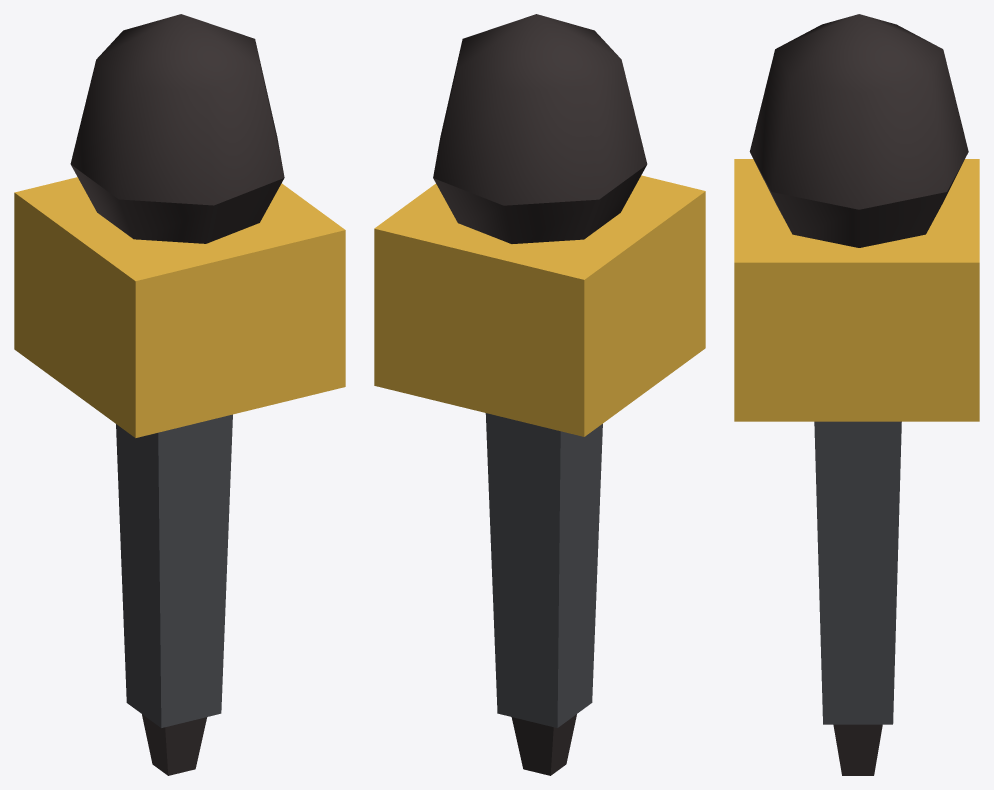
The model's file is SM_Micro.FBX.
The picture shows the model from 3 angles, left to right: view 1: azimuth 30°, elevation 25°; view 2: azimuth 150°, elevation 25°; view 3: azimuth 270°, elevation 25°; orthographic projection.
Parts seen in each view (by area): view 1: Box013; view 2: Box013; view 3: Box013.
Boxes of the visible parts, x1,y1,x2,y2 form: Box013: (14, 14, 345, 775); Box013: (374, 14, 705, 775); Box013: (734, 14, 979, 775).
Size of the model in its own units: 4.01 by 13.7 by 4.01.
